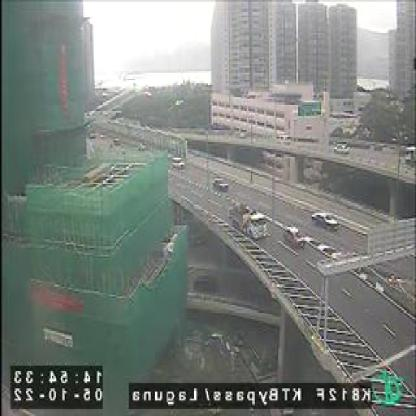Car: (313, 208, 341, 231), (286, 224, 306, 246), (213, 176, 229, 190)
Truck: (232, 203, 270, 236)
